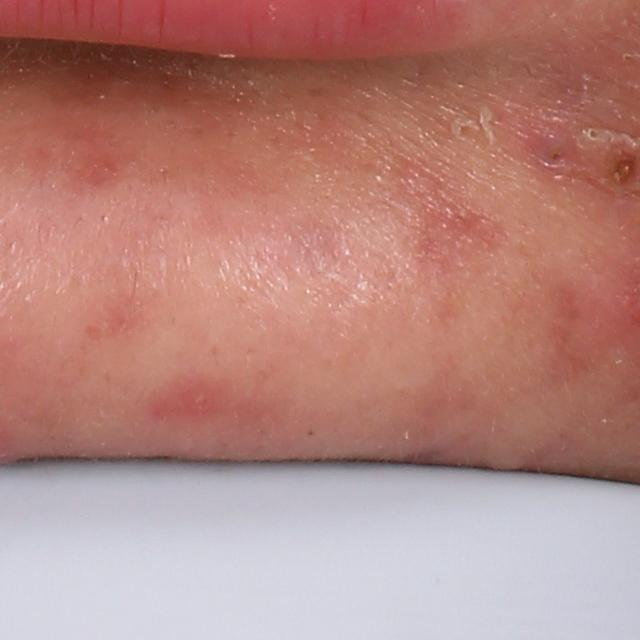comedo: (583, 122, 605, 144)
